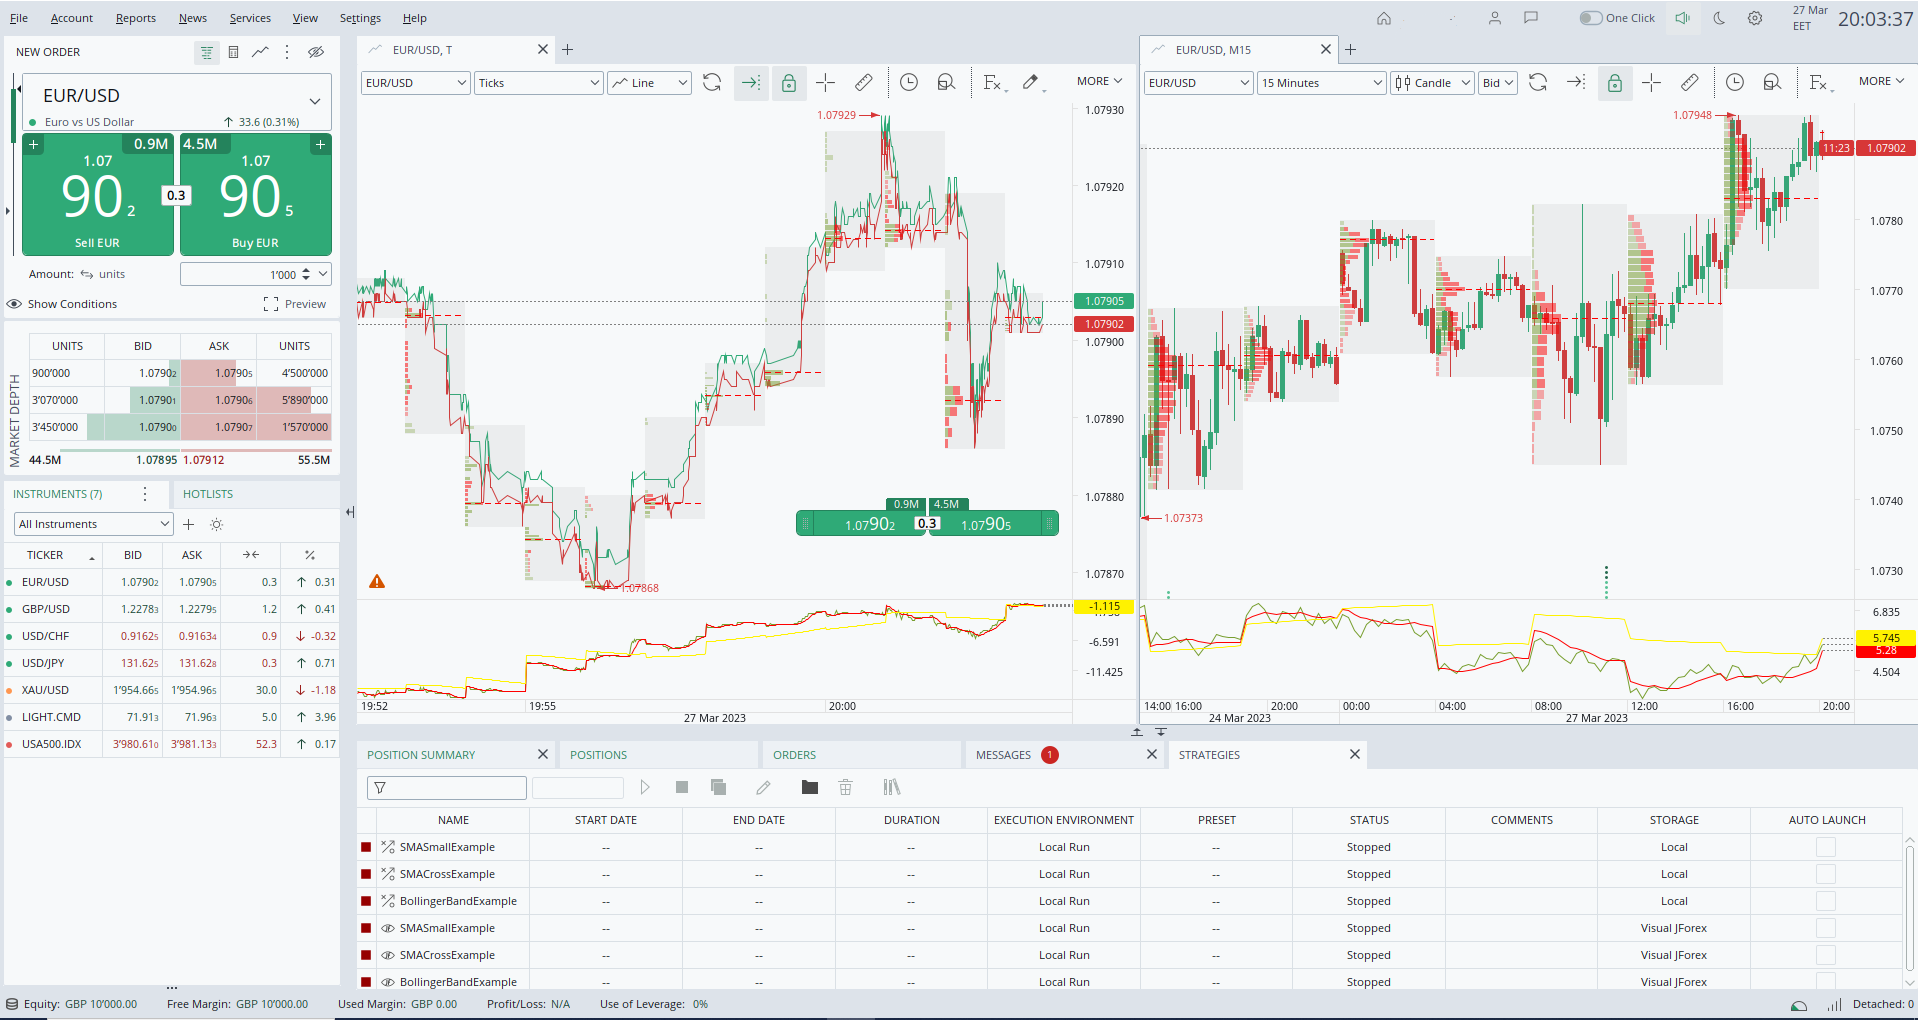block: (1, 36, 342, 987), (1, 38, 341, 318), (1, 3, 1918, 36), (1, 986, 1918, 1019), (1139, 70, 1918, 98), (359, 70, 1137, 95), (189, 36, 332, 69)
button: (180, 133, 334, 255), (22, 134, 173, 256), (3, 481, 340, 507)
chart: (1140, 36, 1918, 724), (358, 39, 1139, 723), (3, 322, 342, 474)
form: (14, 510, 174, 535), (179, 261, 331, 285), (474, 70, 605, 96), (1257, 71, 1389, 94), (1143, 71, 1253, 96), (360, 71, 471, 95), (606, 69, 691, 95), (1390, 71, 1473, 93), (1478, 70, 1518, 94)
icon: (1799, 62, 1839, 101), (1756, 65, 1792, 101), (1673, 66, 1712, 99), (1715, 65, 1752, 98), (1704, 3, 1737, 36), (1515, 3, 1548, 34), (1574, 4, 1606, 36), (1669, 3, 1701, 34), (1740, 3, 1771, 36), (1889, 62, 1918, 96), (1784, 992, 1820, 1019), (1600, 67, 1633, 96), (1636, 67, 1667, 98), (1478, 4, 1510, 33), (1559, 67, 1588, 96), (808, 69, 838, 96), (773, 67, 800, 96), (134, 481, 162, 510), (979, 65, 1006, 95), (1017, 66, 1044, 96), (221, 39, 249, 67), (1337, 36, 1364, 65), (553, 36, 580, 65), (738, 69, 765, 96), (194, 39, 221, 67), (247, 41, 274, 69), (274, 39, 301, 67), (302, 38, 329, 66), (302, 86, 329, 114), (1371, 4, 1398, 30), (1313, 34, 1334, 66), (526, 38, 553, 63), (200, 510, 227, 535), (447, 70, 471, 96), (580, 70, 604, 96), (669, 69, 693, 95), (699, 69, 723, 95), (851, 69, 875, 95), (897, 67, 921, 94), (932, 69, 956, 95), (1822, 993, 1848, 1017), (259, 291, 284, 315), (1, 988, 24, 1015), (301, 264, 329, 285), (1527, 69, 1551, 93), (532, 743, 556, 768), (174, 513, 199, 535), (310, 131, 331, 157), (77, 544, 104, 566), (368, 776, 391, 801), (632, 775, 655, 799), (670, 775, 693, 799), (705, 775, 728, 799), (752, 776, 775, 801), (799, 776, 822, 801), (833, 774, 856, 798), (877, 776, 899, 801), (1139, 742, 1162, 766), (1345, 743, 1367, 768), (354, 835, 377, 859), (1501, 71, 1523, 94), (1230, 72, 1252, 96), (22, 133, 46, 155), (1111, 67, 1132, 91), (6, 293, 25, 318), (151, 513, 173, 534), (1364, 71, 1383, 94), (355, 863, 374, 884), (355, 891, 374, 912), (356, 944, 375, 965), (355, 919, 374, 939), (356, 969, 375, 990), (1456, 71, 1471, 93)
table: (355, 741, 1918, 990), (1, 480, 342, 756)
